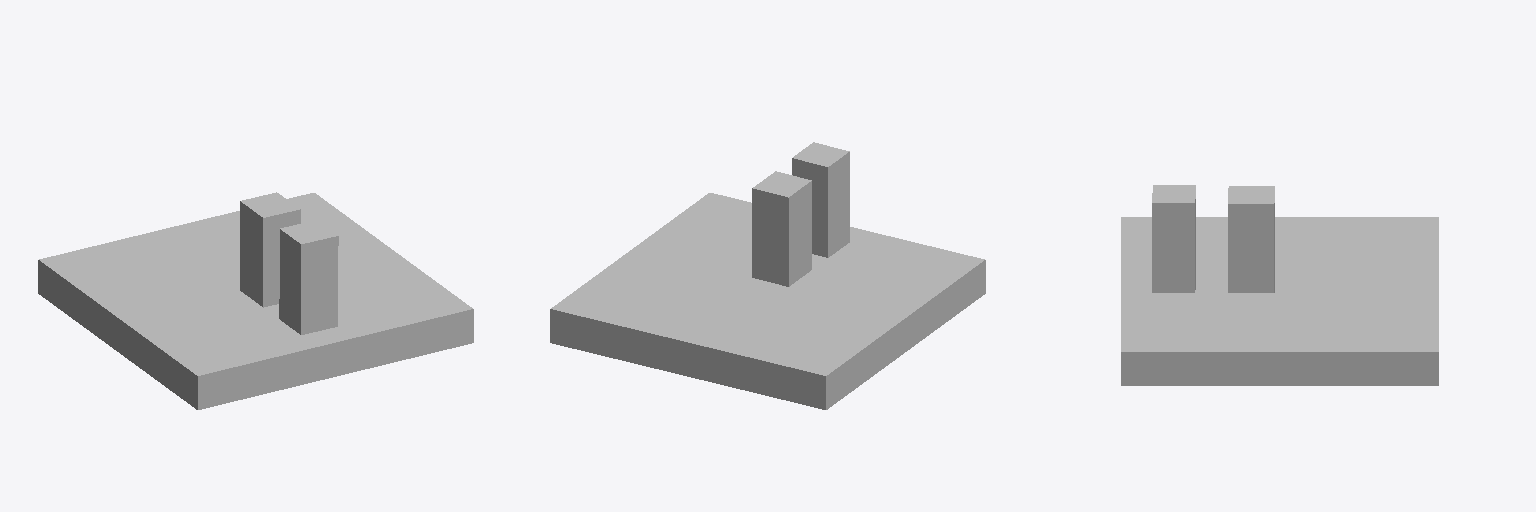
File: repeater.obj
3 views of the same model, side by side, from view 1: azimuth 30°, elevation 25°; view 2: azimuth 150°, elevation 25°; view 3: azimuth 270°, elevation 25° (orthographic).
Parts seen in each view (by area): view 1: Cube_Cube.001; view 2: Cube_Cube.001; view 3: Cube_Cube.001.
Part boxes in pixels (bbox=[...]): Cube_Cube.001: bbox=[38, 192, 473, 409]; Cube_Cube.001: bbox=[550, 142, 985, 409]; Cube_Cube.001: bbox=[1121, 185, 1438, 385].
Bounding box in the file's own units: 1 × 0.4331 × 1.